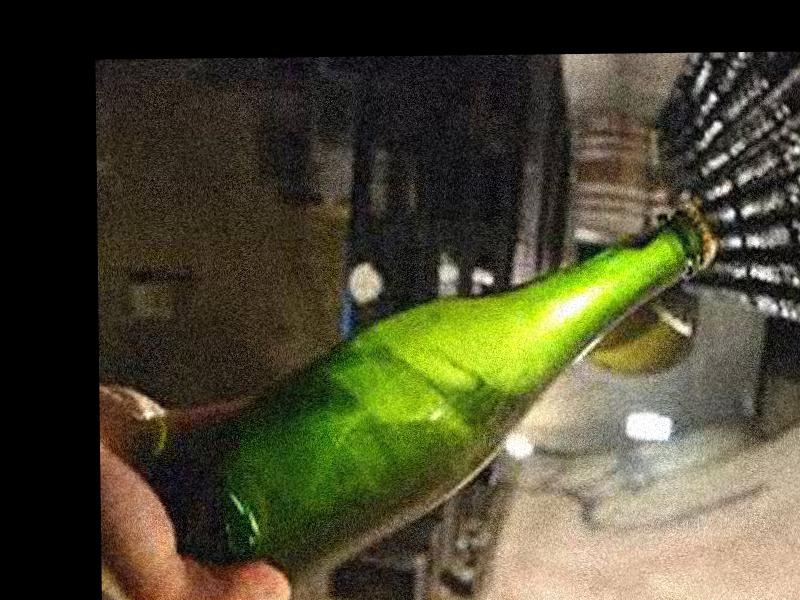Beer: (152, 196, 721, 600)
